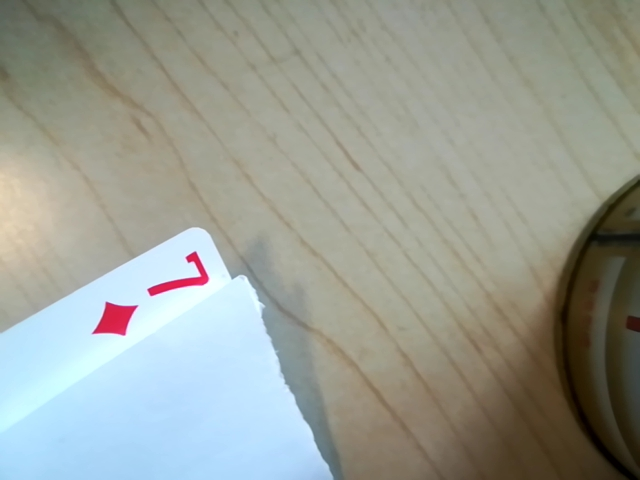fk 7: (76, 251, 221, 332)
